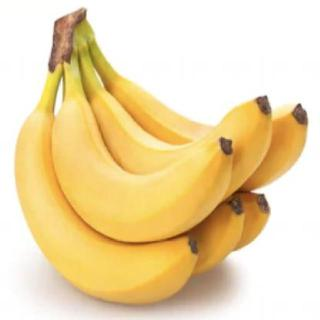banana: (13, 109, 199, 307), (50, 98, 236, 245), (105, 80, 312, 198), (82, 93, 275, 219)
